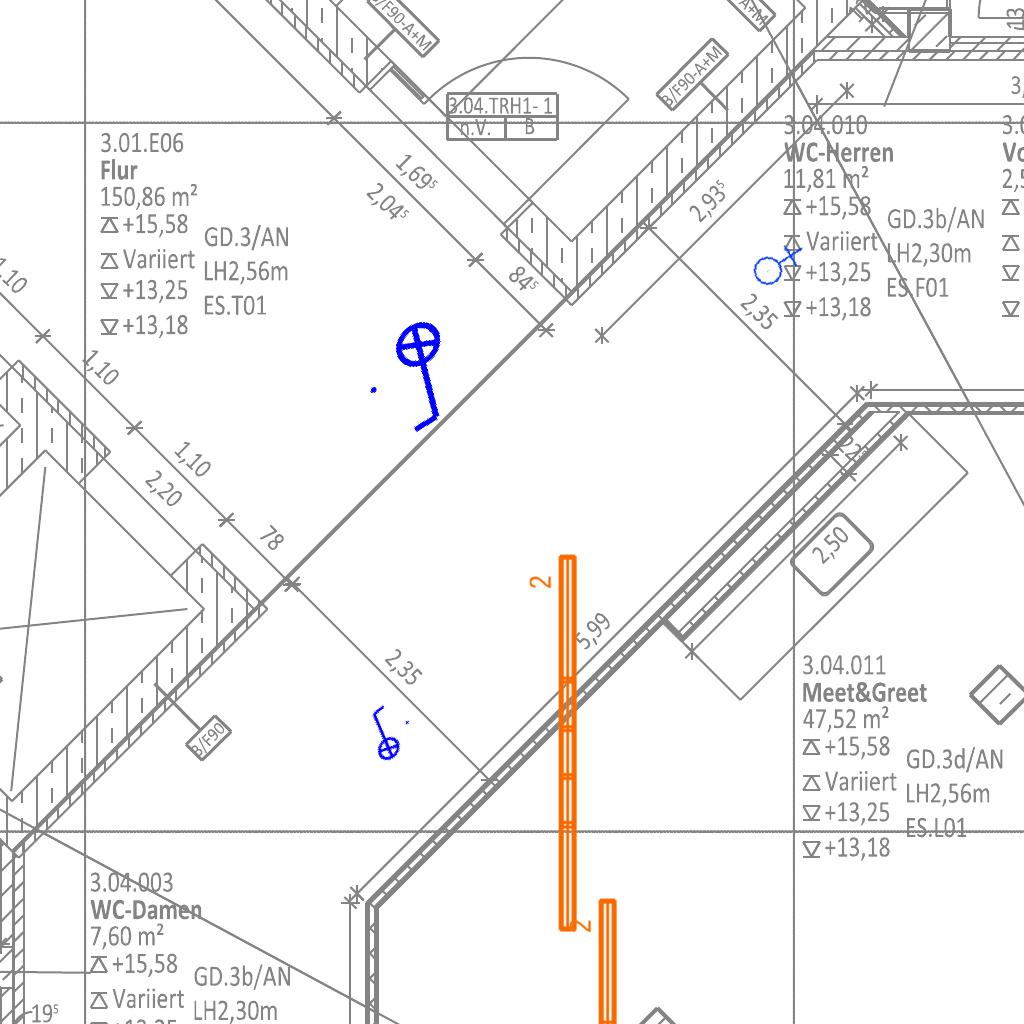Ambulanz_Pendelleuchte_LED: (527, 550, 583, 937), (567, 894, 623, 1024)
Ausschalter_beleuchtet: (351, 301, 499, 449), (347, 697, 419, 771)
Elektroanschluss_allgemein_230V_Geraeteanschlussdose_230V: (746, 235, 805, 292)
